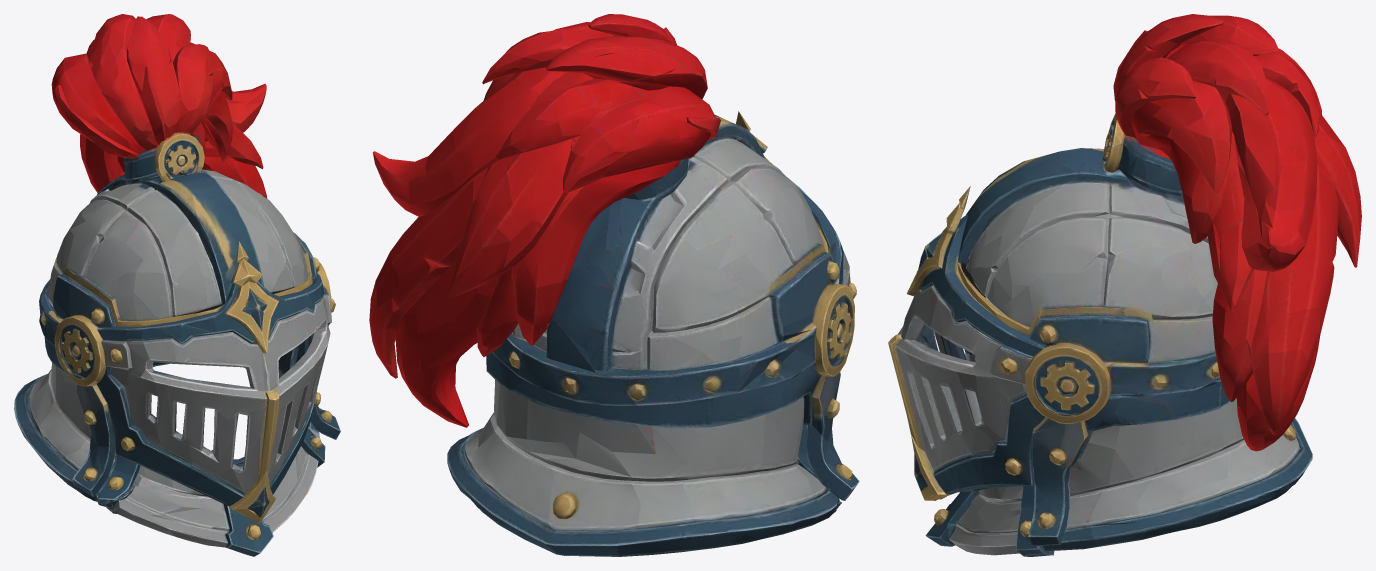
Rendered from armor_medieval_head.glb.
The picture shows the model from 3 angles, left to right: view 1: azimuth 30°, elevation 25°; view 2: azimuth 150°, elevation 25°; view 3: azimuth 270°, elevation 25°; orthographic projection. The views are drawn at different scales.
Visible parts, largest first — view 1: output_unwrapped; view 2: output_unwrapped; view 3: output_unwrapped.
Part boxes in pixels (x1,y1,x2,y2): output_unwrapped: (14, 14, 340, 556); output_unwrapped: (369, 14, 859, 556); output_unwrapped: (888, 14, 1361, 556).
Size of the model in its own units: 1.25 by 1.89 by 1.54.
1 material, 1 textured.
